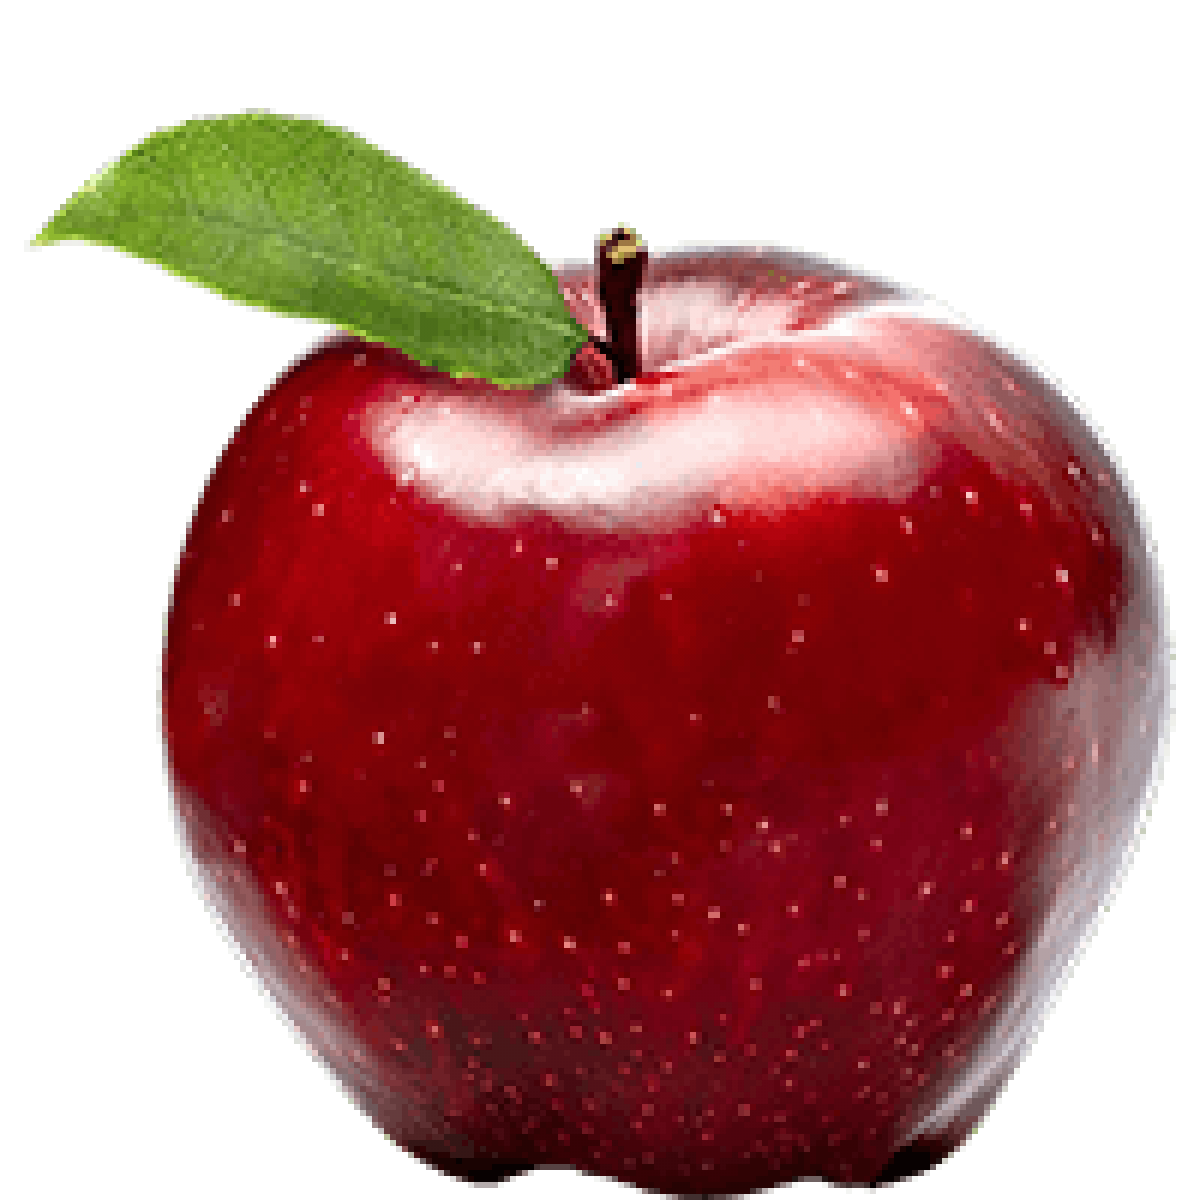apple: (15, 105, 1174, 1200)
